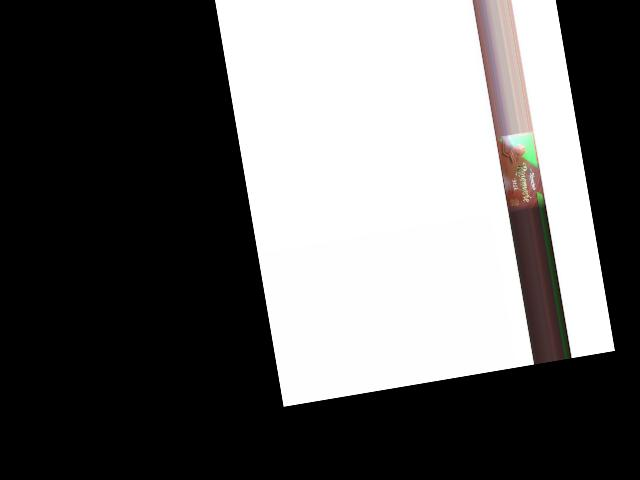chocolate: (496, 132, 545, 214)
